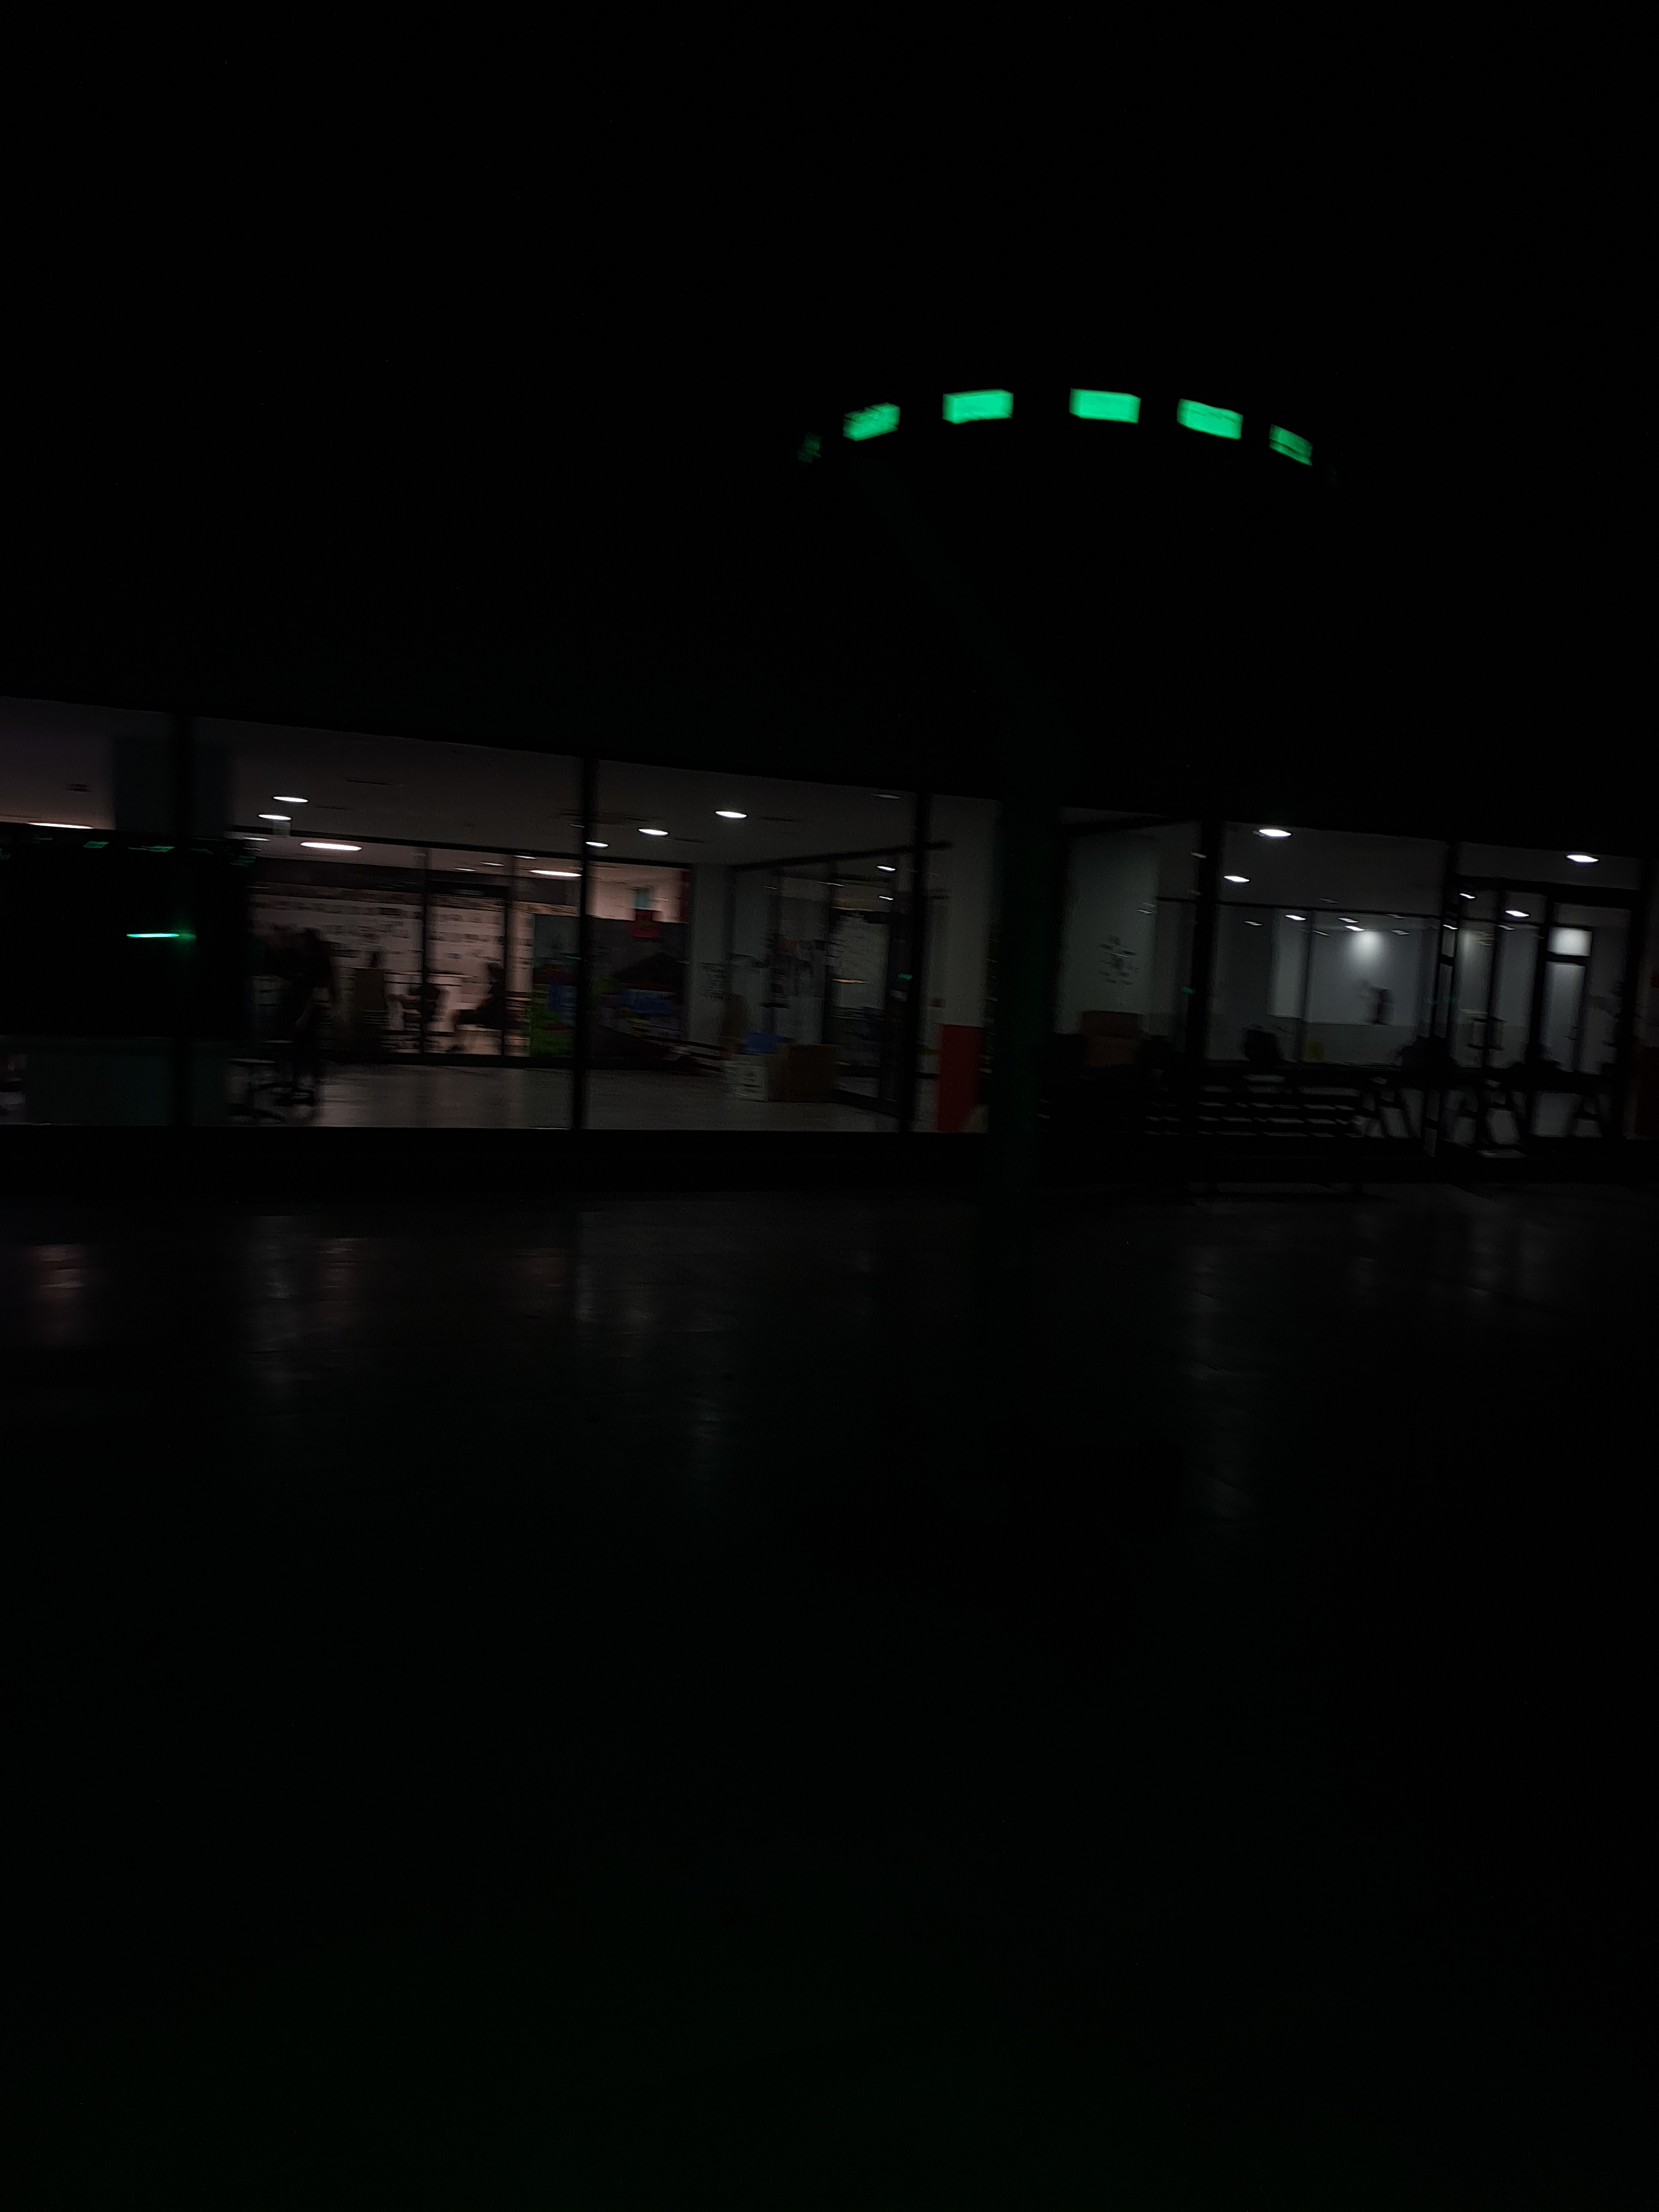hoop: (838, 373, 1319, 481)
